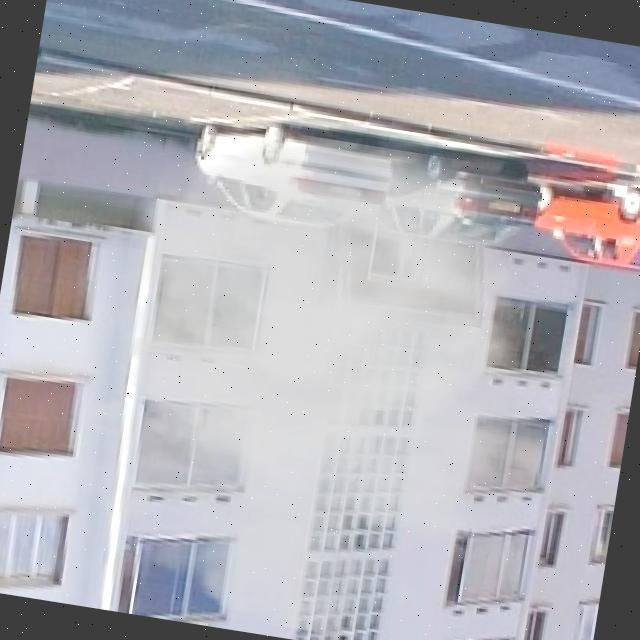smoke: (0, 67, 590, 640)
